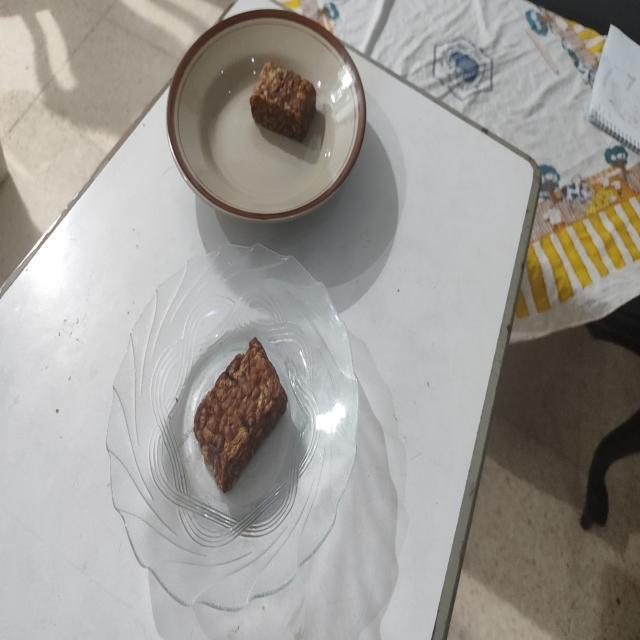tempe_goreng: (194, 338, 288, 492), (250, 62, 316, 141)
